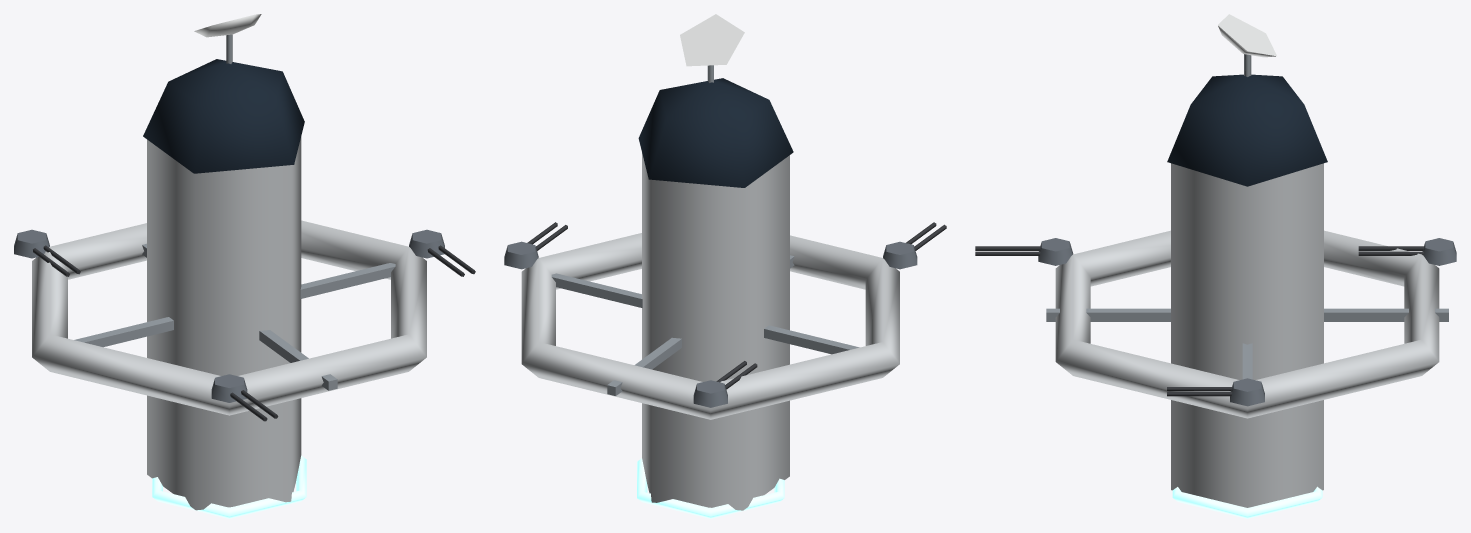
The model's file is space_orbital_command_center_t2_lod2.glb.
3 renders of one model, left to right at view 1: azimuth 30°, elevation 25°; view 2: azimuth 150°, elevation 25°; view 3: azimuth 270°, elevation 25°, orthographic. The views are drawn at different scales.
Visible parts, largest first — view 1: body, ring, turret_1, turret_2, turret_0, antenna_0; view 2: body, ring, antenna_0, turret_2, turret_1, turret_0; view 3: body, ring, antenna_0, turret_0, turret_1, turret_2.
Part boxes in pixels (x1,y1,x2,y2): body: (143,59,306,518); ring: (32,220,426,415); turret_1: (211,374,278,421); turret_2: (14,229,80,276); turret_0: (409,229,475,276); antenna_0: (194,14,261,63); body: (637,78,793,518); ring: (521,233,899,419); antenna_0: (680,14,744,82); turret_2: (693,361,757,407); turret_1: (883,222,946,269); turret_0: (504,222,567,269); body: (1167,74,1327,518); ring: (1046,230,1448,418); antenna_0: (1218,14,1276,76); turret_0: (1167,378,1264,406); turret_1: (975,238,1073,265); turret_2: (1358,238,1456,265).
Size of the model in its own units: 23 by 25.46 by 23.92.
